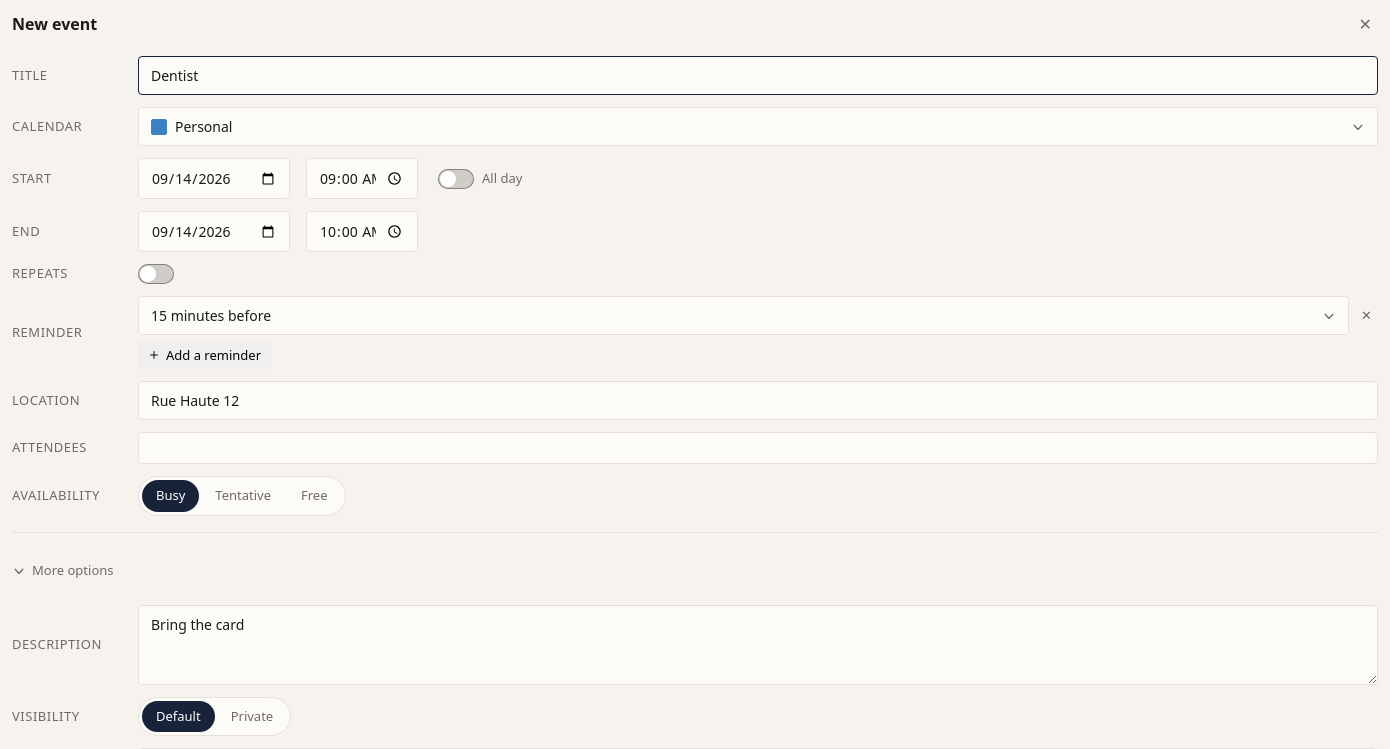
Scenario: EventEditor › puts the hours to sleep at 00:00 and moves the reminder onto the other ladder on All day
Step 1. Click the checkbox labelled "All day" → [456, 178], box top-left (438, 168), bottom-right (474, 188)
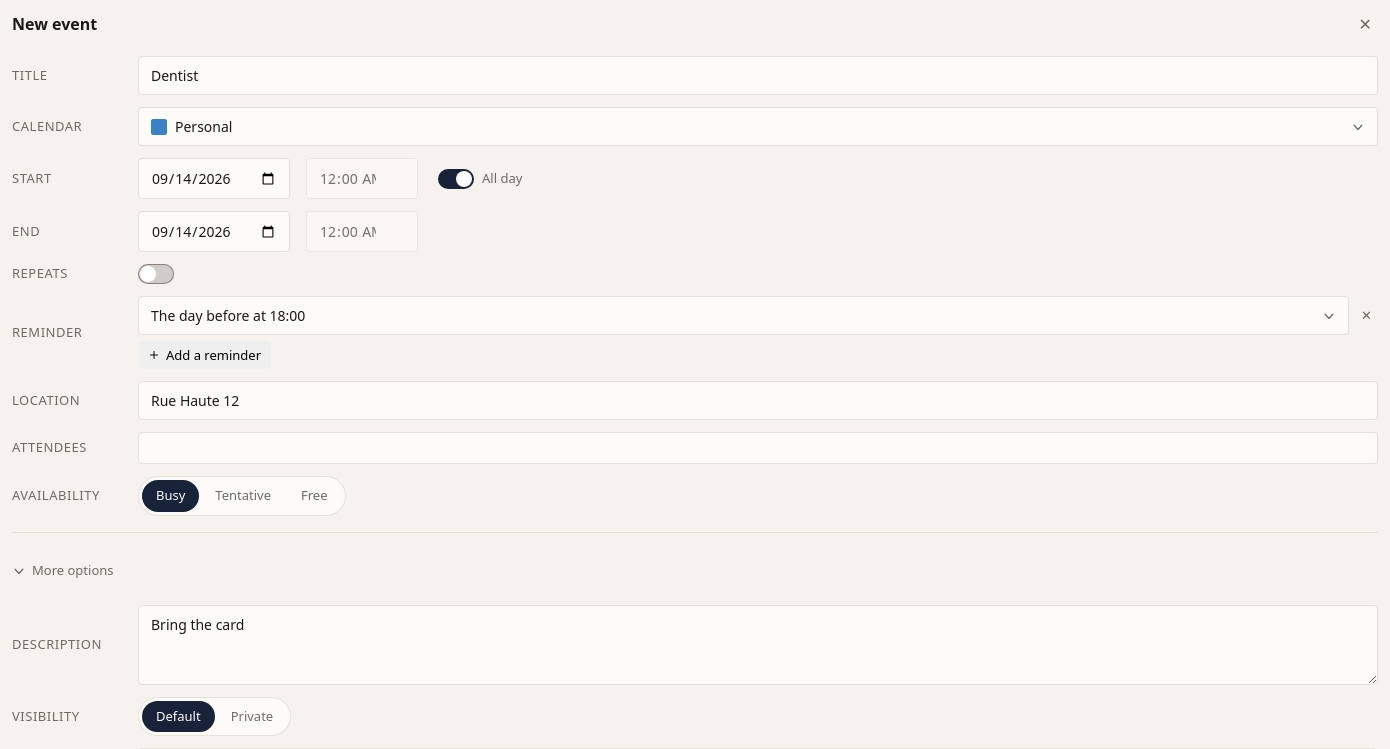
Now the time field named "Start time" is disabled, box top-left (306, 158), bottom-right (418, 199)
Now the time field named "Start time" holds "00:00", box top-left (306, 158), bottom-right (418, 199)
Now the time field named "End time" is disabled, box top-left (306, 211), bottom-right (418, 252)
Step 2. Click the dropdown named "Reminder" → [228, 316], box top-left (138, 296), bottom-right (1349, 335)
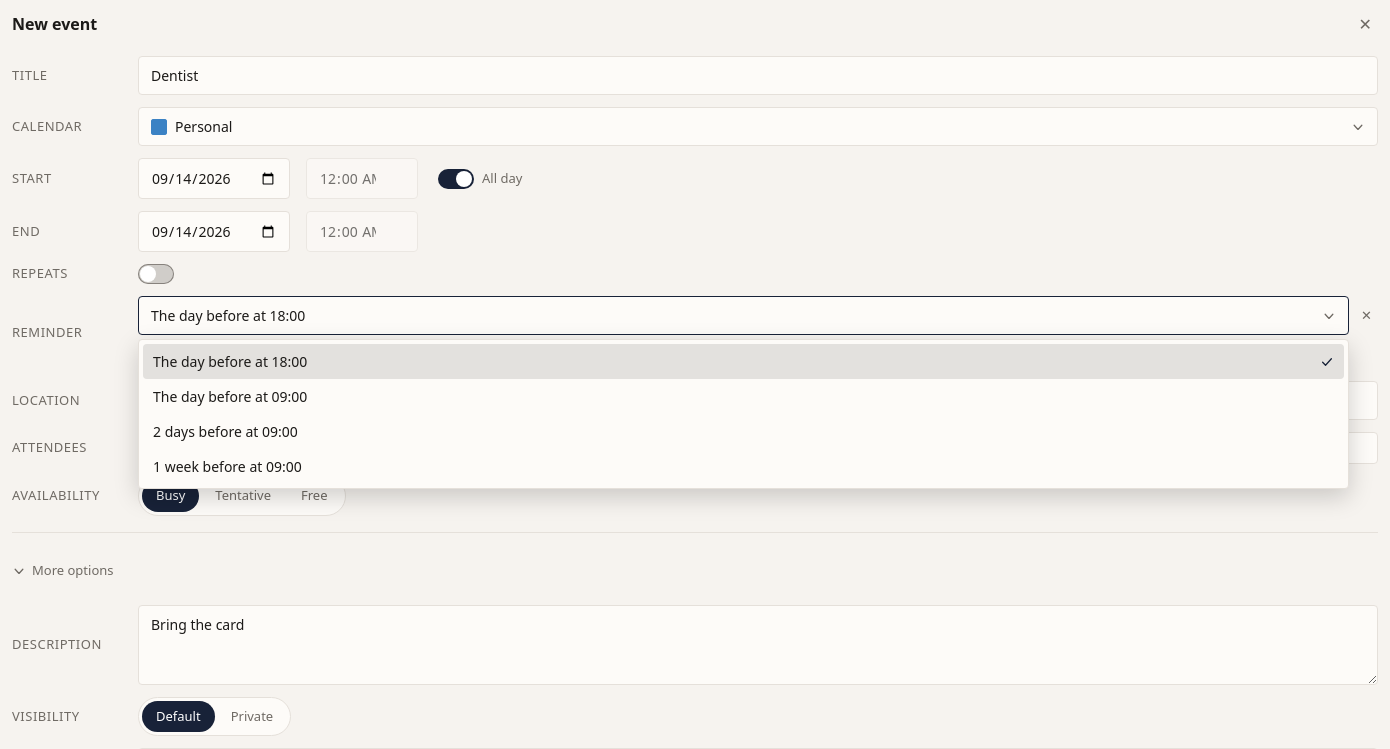
Now the option "The day before at 18:00" is shown, box top-left (143, 344), bottom-right (1344, 379)
